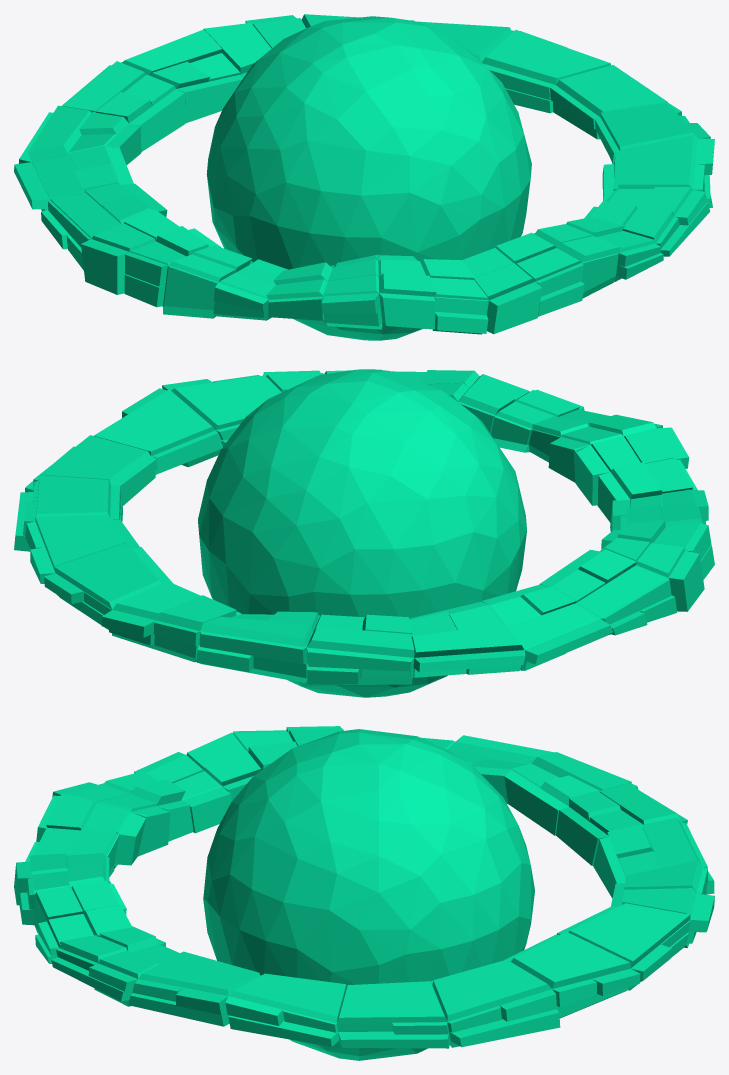
The model's file is Planet_8.FBX.
3 renders of one model, top to bottom at view 1: azimuth 30°, elevation 25°; view 2: azimuth 150°, elevation 25°; view 3: azimuth 270°, elevation 25°, orthographic.
Visible parts, largest first — view 1: Planet_8_Ring, Planet_8; view 2: Planet_8_Ring, Planet_8; view 3: Planet_8_Ring, Planet_8.
Boxes of the visible parts, x1,y1,x2,y2 form: Planet_8_Ring: [14, 14, 714, 334]; Planet_8: [206, 16, 531, 340]; Planet_8_Ring: [14, 369, 714, 684]; Planet_8: [198, 369, 526, 697]; Planet_8_Ring: [14, 726, 714, 1048]; Planet_8: [203, 729, 534, 1060].
Bounding box in the file's own units: 228 × 107 × 226.
